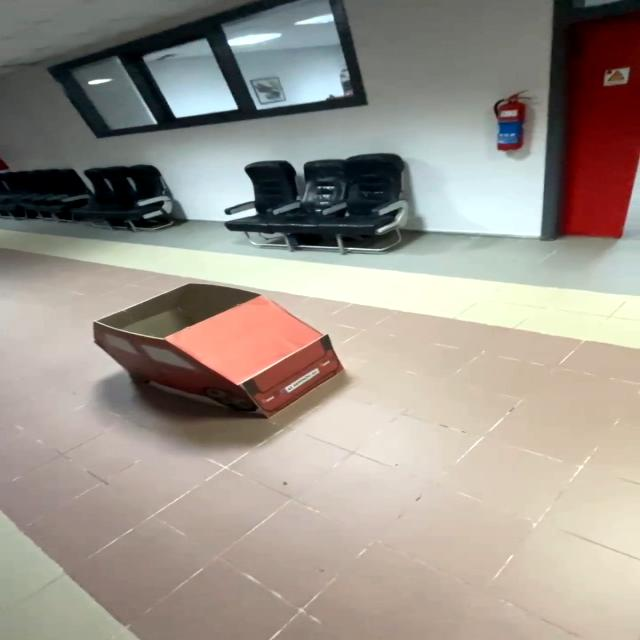red_car: (53, 269, 425, 474)
